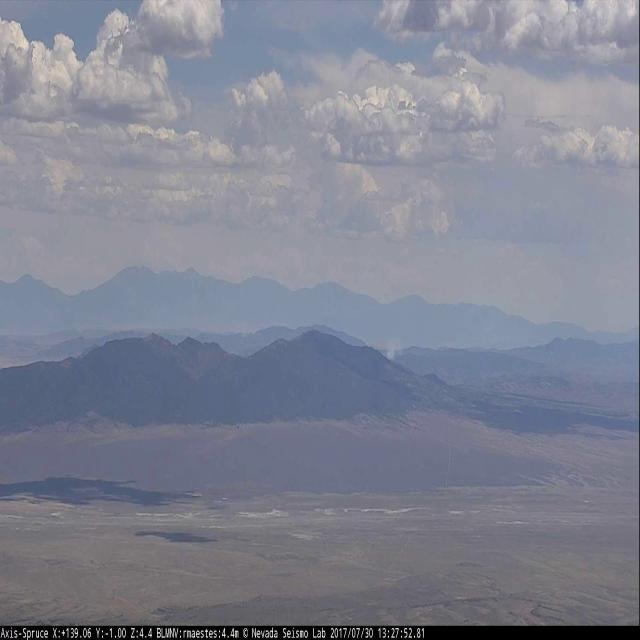smoke: (387, 336, 403, 359)
